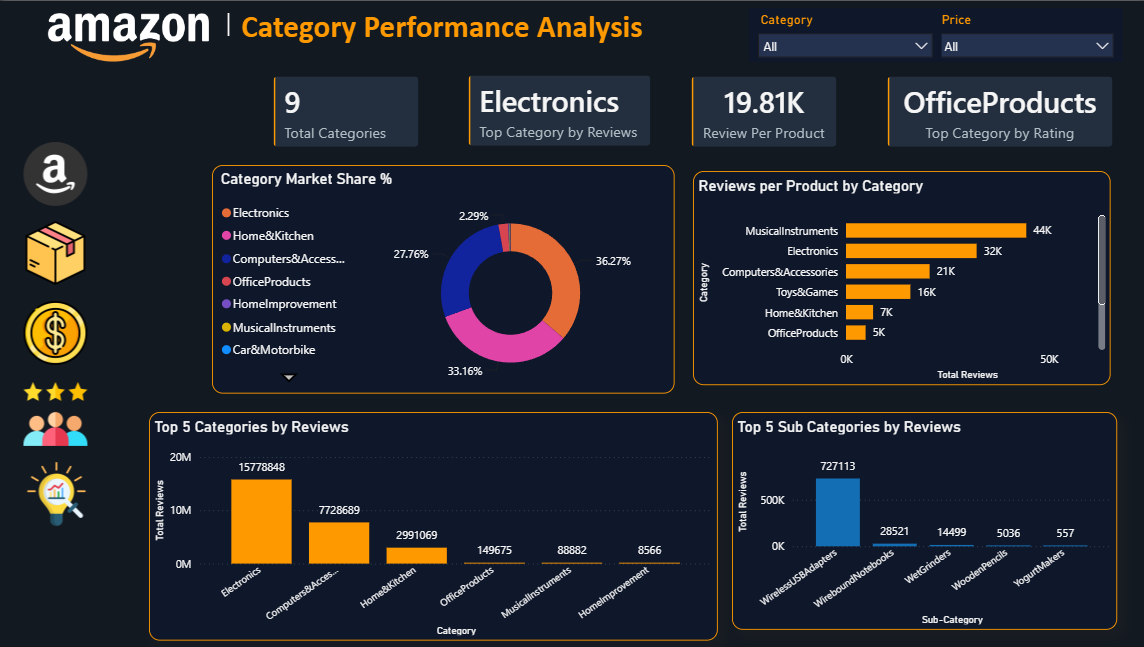

The page's visual inventory and layout, read from the dashboard file:
{"tool":"powerbi","page":{"name":"Category","canvas":[1280,720],"ordinal":1},"visuals":[{"type":"slicer","fields":{"Values":["amazon.sale-price_bands"]},"box":[1035.5,7.8,214.4,60],"z":0,"group":"g3"},{"type":"image","box":[24.4,13.3,241.1,54.4],"z":0,"group":"g2"},{"type":"cardVisual","fields":{"Data":["amazon.Total Categories"]},"box":[301.1,78.4,171.1,88.9],"z":0,"group":"g4"},{"type":"group","id":"g1","title":"Slides","box":[23.3,156.7,82.2,426.7],"z":0},{"type":"image","box":[23.3,156.7,81.5,71.2],"z":0,"group":"g1"},{"type":"image","box":[24.4,512.3,81.5,71.2],"z":500,"group":"g1"},{"type":"group","id":"g2","title":"Header Icon","box":[24.4,0,698.4,67.8],"z":1000},{"type":"shape","box":[262.8,0,460,56.7],"z":1000,"group":"g2"},{"type":"slicer","fields":{"Values":["amazon.main_category","amazon.sub_category"]},"box":[834.4,7.8,214.4,60],"z":1000,"group":"g3"},{"type":"cardVisual","fields":{"Data":["amazon.Top Category by Reviews"]},"box":[518.1,77.8,212.2,88.9],"z":1000,"group":"g4"},{"type":"image","box":[23.3,244.5,81.5,71.2],"z":1000,"group":"g1"},{"type":"group","id":"g3","title":"Slicer","box":[834.4,7.8,415.6,60],"z":2000},{"type":"shape","box":[92.2,13.3,327.8,25.6],"z":2000,"group":"g2"},{"type":"cardVisual","fields":{"Data":["amazon.Review Per Product"]},"box":[765.5,78.4,171.1,88.9],"z":2000,"group":"g4"},{"type":"image","box":[23.3,333.2,81.5,71.2],"z":2000,"group":"g1"},{"type":"group","id":"g4","title":"KPI","box":[301.1,77.8,942.2,90],"z":3000},{"type":"cardVisual","fields":{"Data":["amazon.Top Category by Rating"]},"box":[983.6,79.3,260,88.9],"z":3000,"group":"g4"},{"type":"image","box":[23.3,423.4,81.5,71.2],"z":3000,"group":"g1"},{"type":"clusteredColumnChart","title":"Top 5 Categories by Reviews","fields":{"Category":["amazon.main_category"],"Y":["amazon.Total Reviews"]},"box":[167.8,456.7,632.2,254.4],"z":4000},{"type":"clusteredColumnChart","title":"Top 5 Sub Categories by Reviews","fields":{"Category":["amazon.sub_category"],"Y":["amazon.Total Reviews"]},"box":[815.6,456.7,427.8,242.2],"z":5000},{"type":"donutChart","title":"Category Market Share %","fields":{"Y":["amazon.Market Share %"],"Category":["amazon.main_category"]},"box":[237.8,182.2,514.4,254.4],"z":6000},{"type":"clusteredBarChart","title":"Reviews per Product by Category","fields":{"Category":["amazon.main_category"],"Y":["amazon.Review Per Product"]},"box":[772.2,188.9,464.4,237.8],"z":7000}]}

Visuals, with their boxes in screenshot pixels (x1, y1, x2, y2), scaled from the page's 1280x720 canvas onto the 1144x647 screenshot:
slicer - amazon.sale-price_bands: x1=925, y1=7, x2=1117, y2=61
image: x1=22, y1=12, x2=237, y2=61
cardVisual - amazon.Total Categories: x1=269, y1=70, x2=422, y2=150
"Slides" group: x1=21, y1=141, x2=94, y2=524
image: x1=21, y1=141, x2=94, y2=205
image: x1=22, y1=460, x2=95, y2=524
"Header Icon" group: x1=22, y1=0, x2=646, y2=61
shape: x1=235, y1=0, x2=646, y2=51
slicer - amazon.main_category x amazon.sub_category: x1=746, y1=7, x2=937, y2=61
cardVisual - amazon.Top Category by Reviews: x1=463, y1=70, x2=653, y2=150
image: x1=21, y1=220, x2=94, y2=284
"Slicer" group: x1=746, y1=7, x2=1117, y2=61
shape: x1=82, y1=12, x2=375, y2=35
cardVisual - amazon.Review Per Product: x1=684, y1=70, x2=837, y2=150
image: x1=21, y1=299, x2=94, y2=363
"KPI" group: x1=269, y1=70, x2=1111, y2=151
cardVisual - amazon.Top Category by Rating: x1=879, y1=71, x2=1111, y2=151
image: x1=21, y1=380, x2=94, y2=444
"Top 5 Categories by Reviews" clusteredColumnChart: x1=150, y1=410, x2=715, y2=639
"Top 5 Sub Categories by Reviews" clusteredColumnChart: x1=729, y1=410, x2=1111, y2=628
"Category Market Share %" donutChart: x1=213, y1=164, x2=672, y2=392
"Reviews per Product by Category" clusteredBarChart: x1=690, y1=170, x2=1105, y2=383
